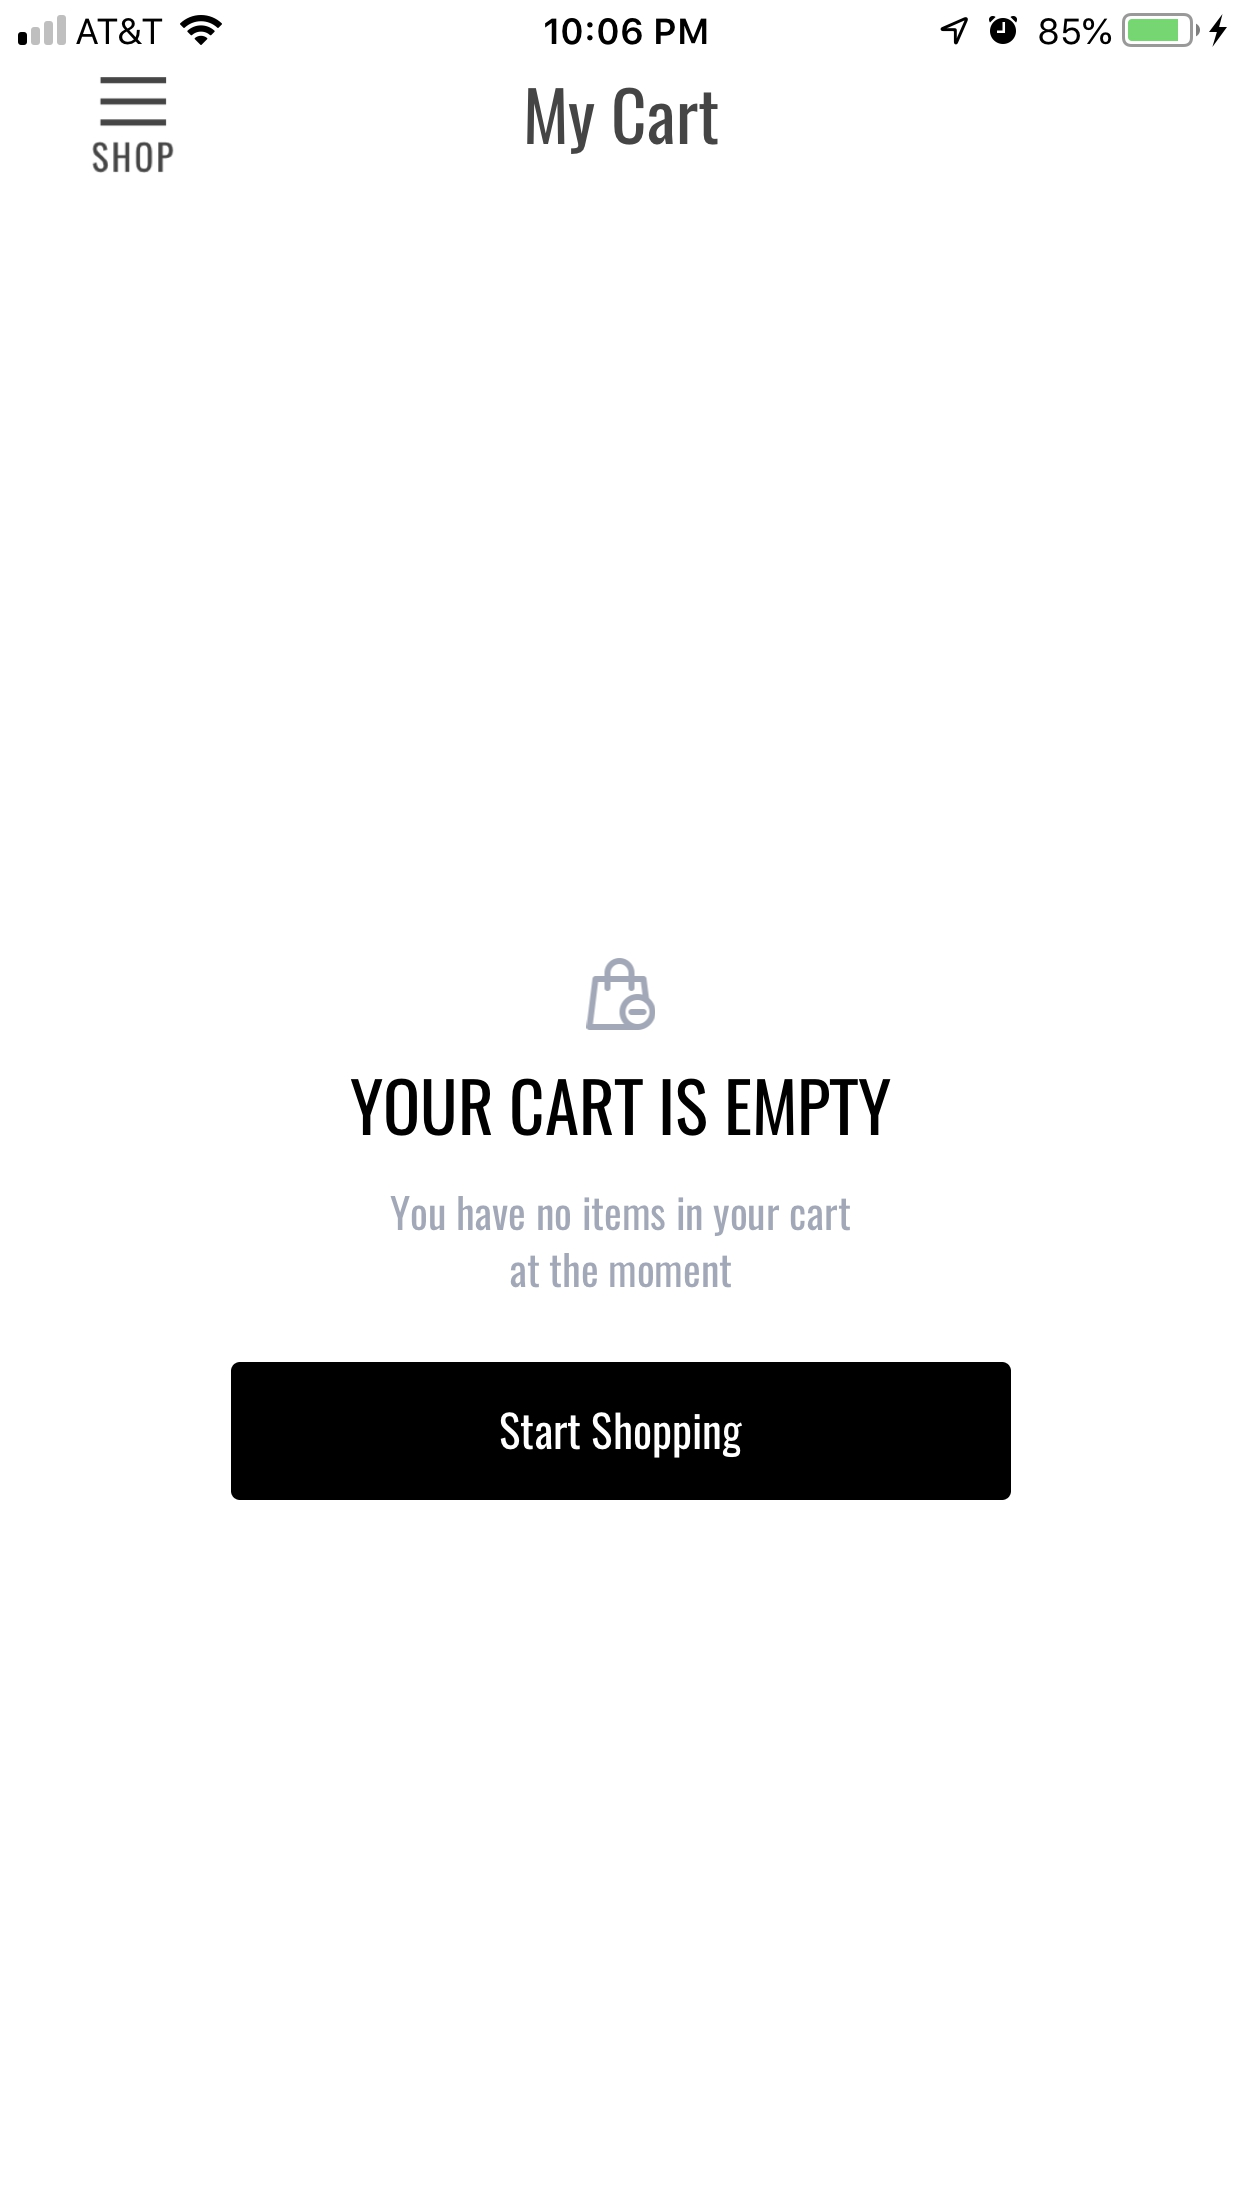Icon: (585, 958, 657, 1033), (100, 76, 168, 127)
Text: (390, 1197, 851, 1289), (350, 1078, 892, 1137), (528, 88, 719, 156), (93, 141, 174, 174)
TextButton: (231, 1360, 1011, 1501)
UpperTaskBar: (2, 2, 1242, 49)
